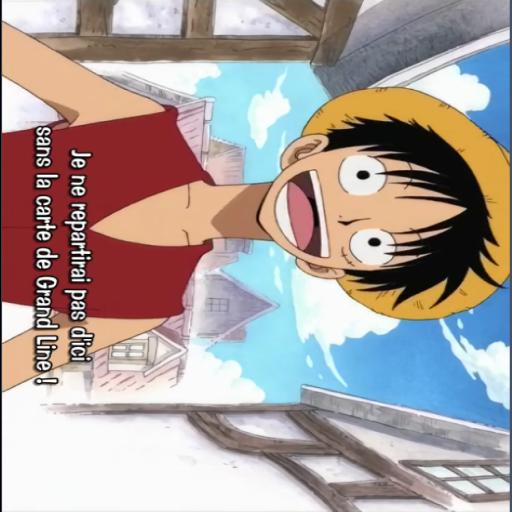Luffy: (0, 41, 512, 389)
